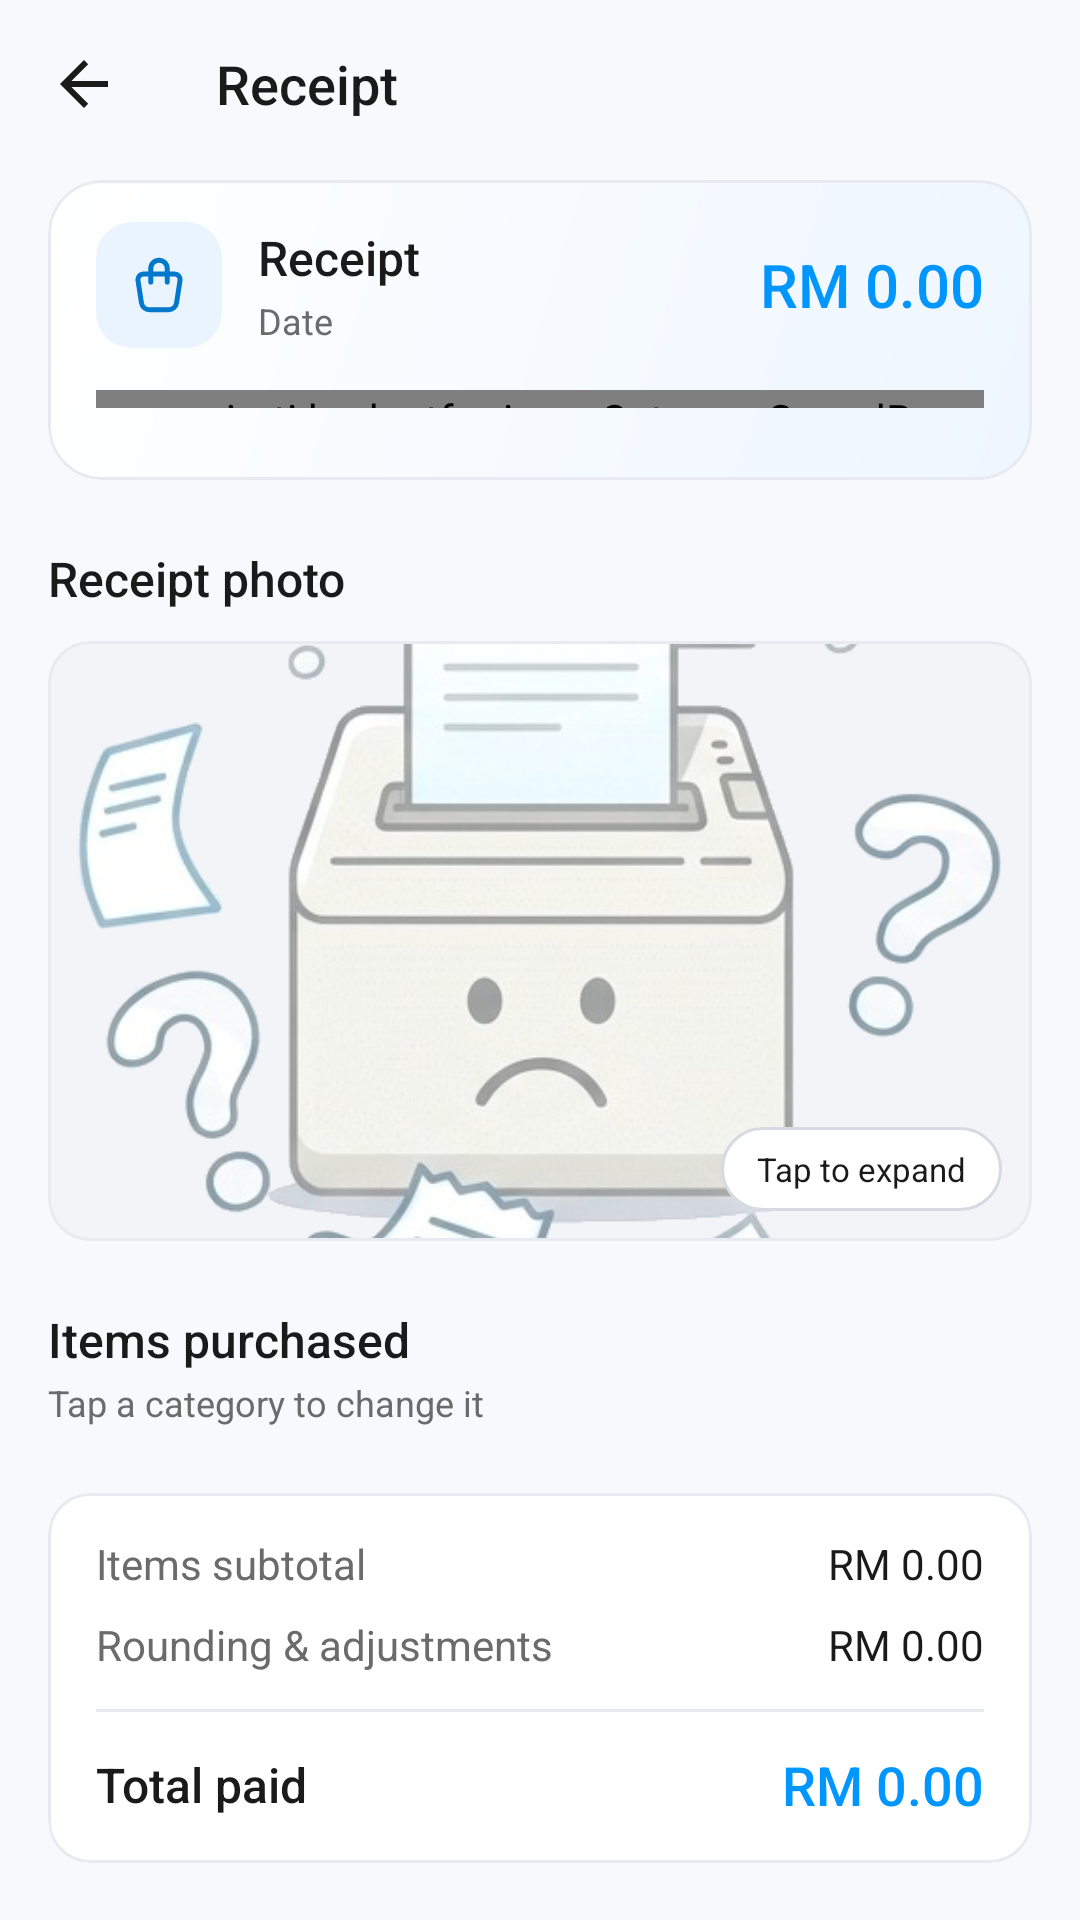

Icon click points for this 1080x1920 phone screenshot, format (x=x, y=y):
shopping bag: (x=159, y=285)
